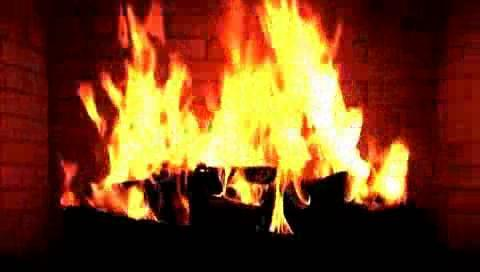fire: (86, 17, 406, 226)
